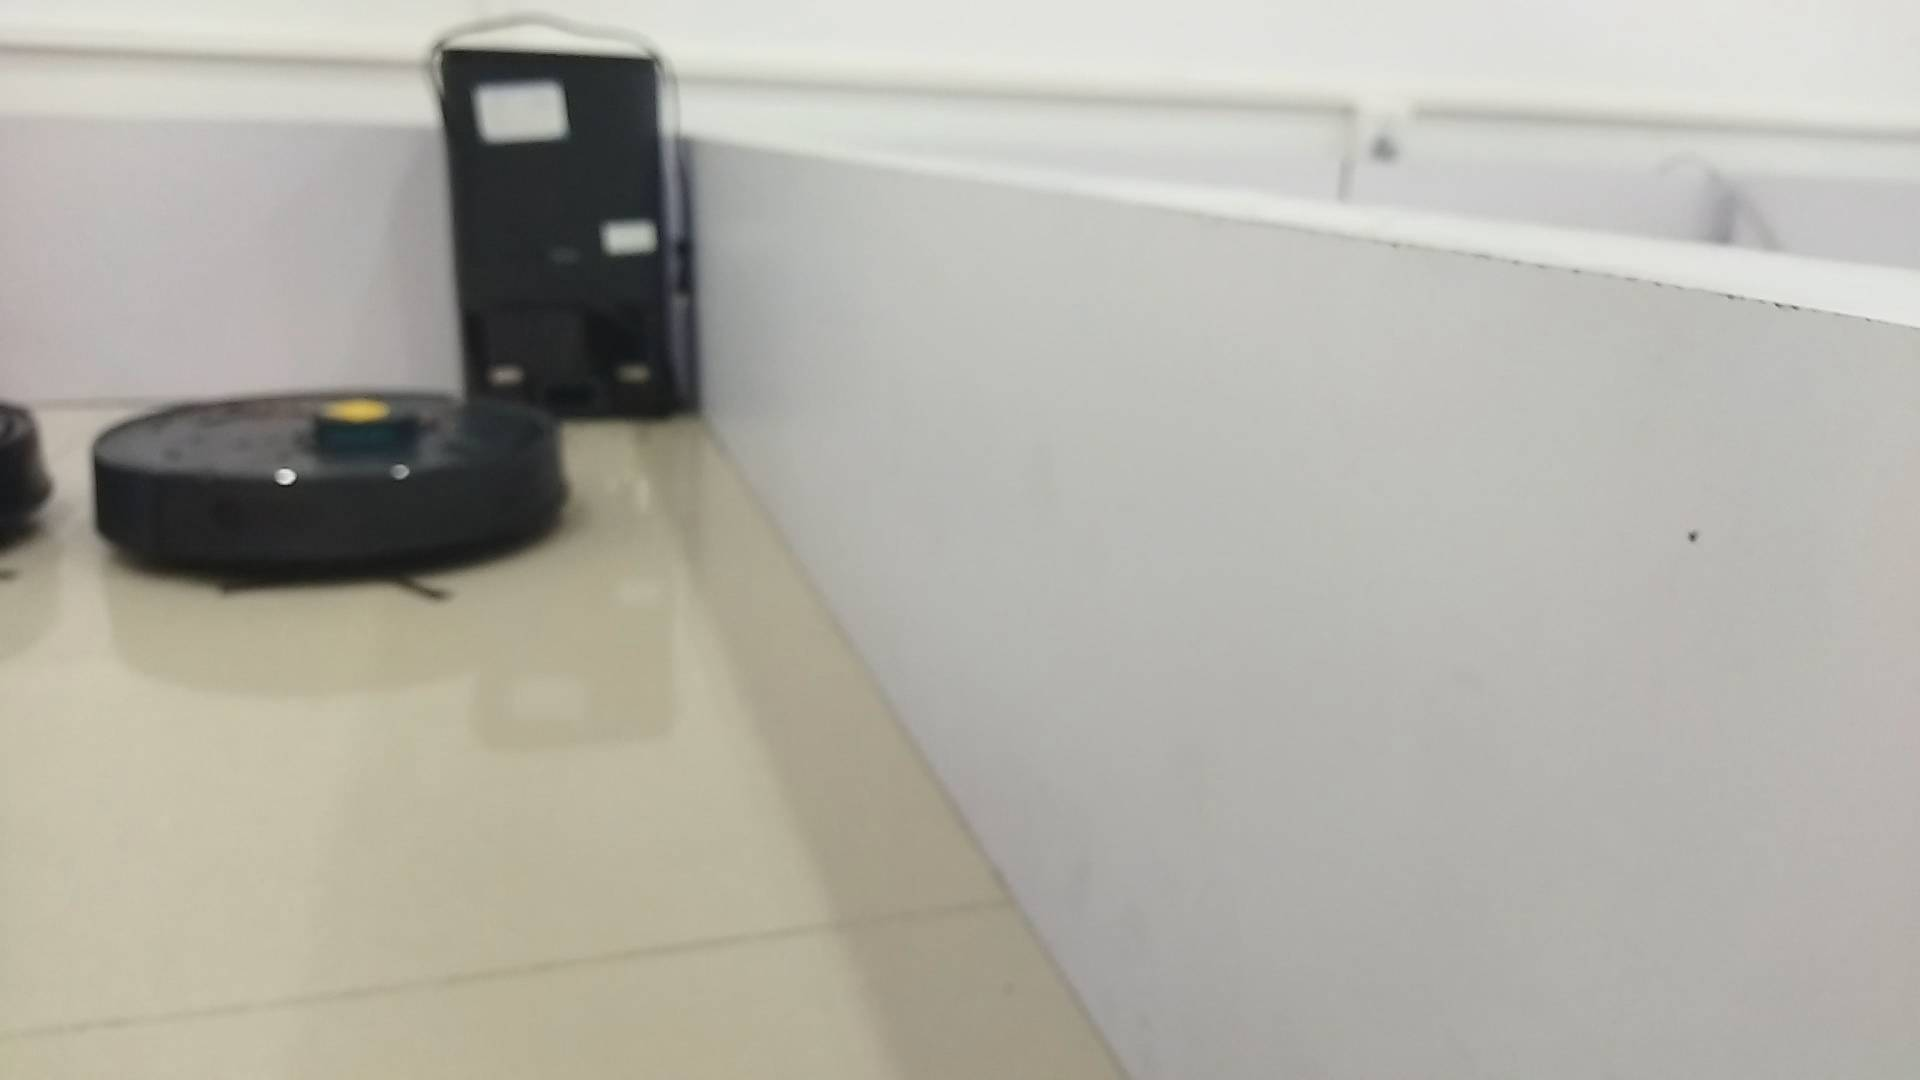dust collecting barrel: (439, 47, 694, 425)
